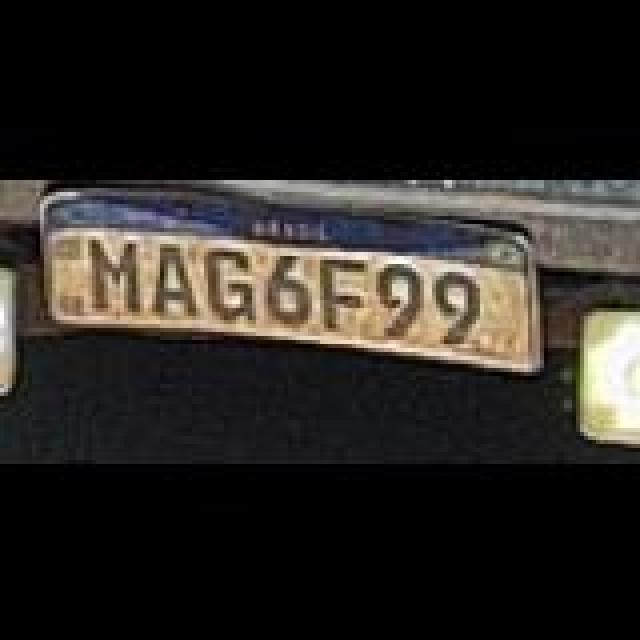6: (260, 246, 316, 322)
9: (432, 266, 488, 342), (376, 262, 432, 338)
A: (148, 238, 204, 314)
F: (320, 254, 376, 330)
G: (200, 242, 264, 318)
M: (88, 236, 152, 316)
